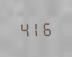four: (18, 20, 28, 37)
one: (30, 20, 40, 36)
six: (41, 19, 51, 36)
